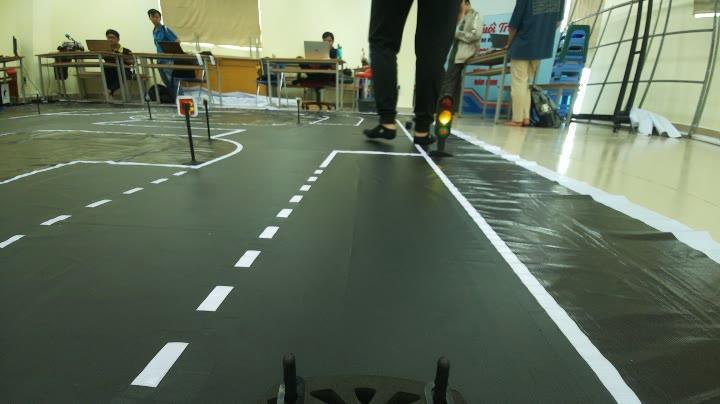trafficlight: (422, 91, 461, 167)
